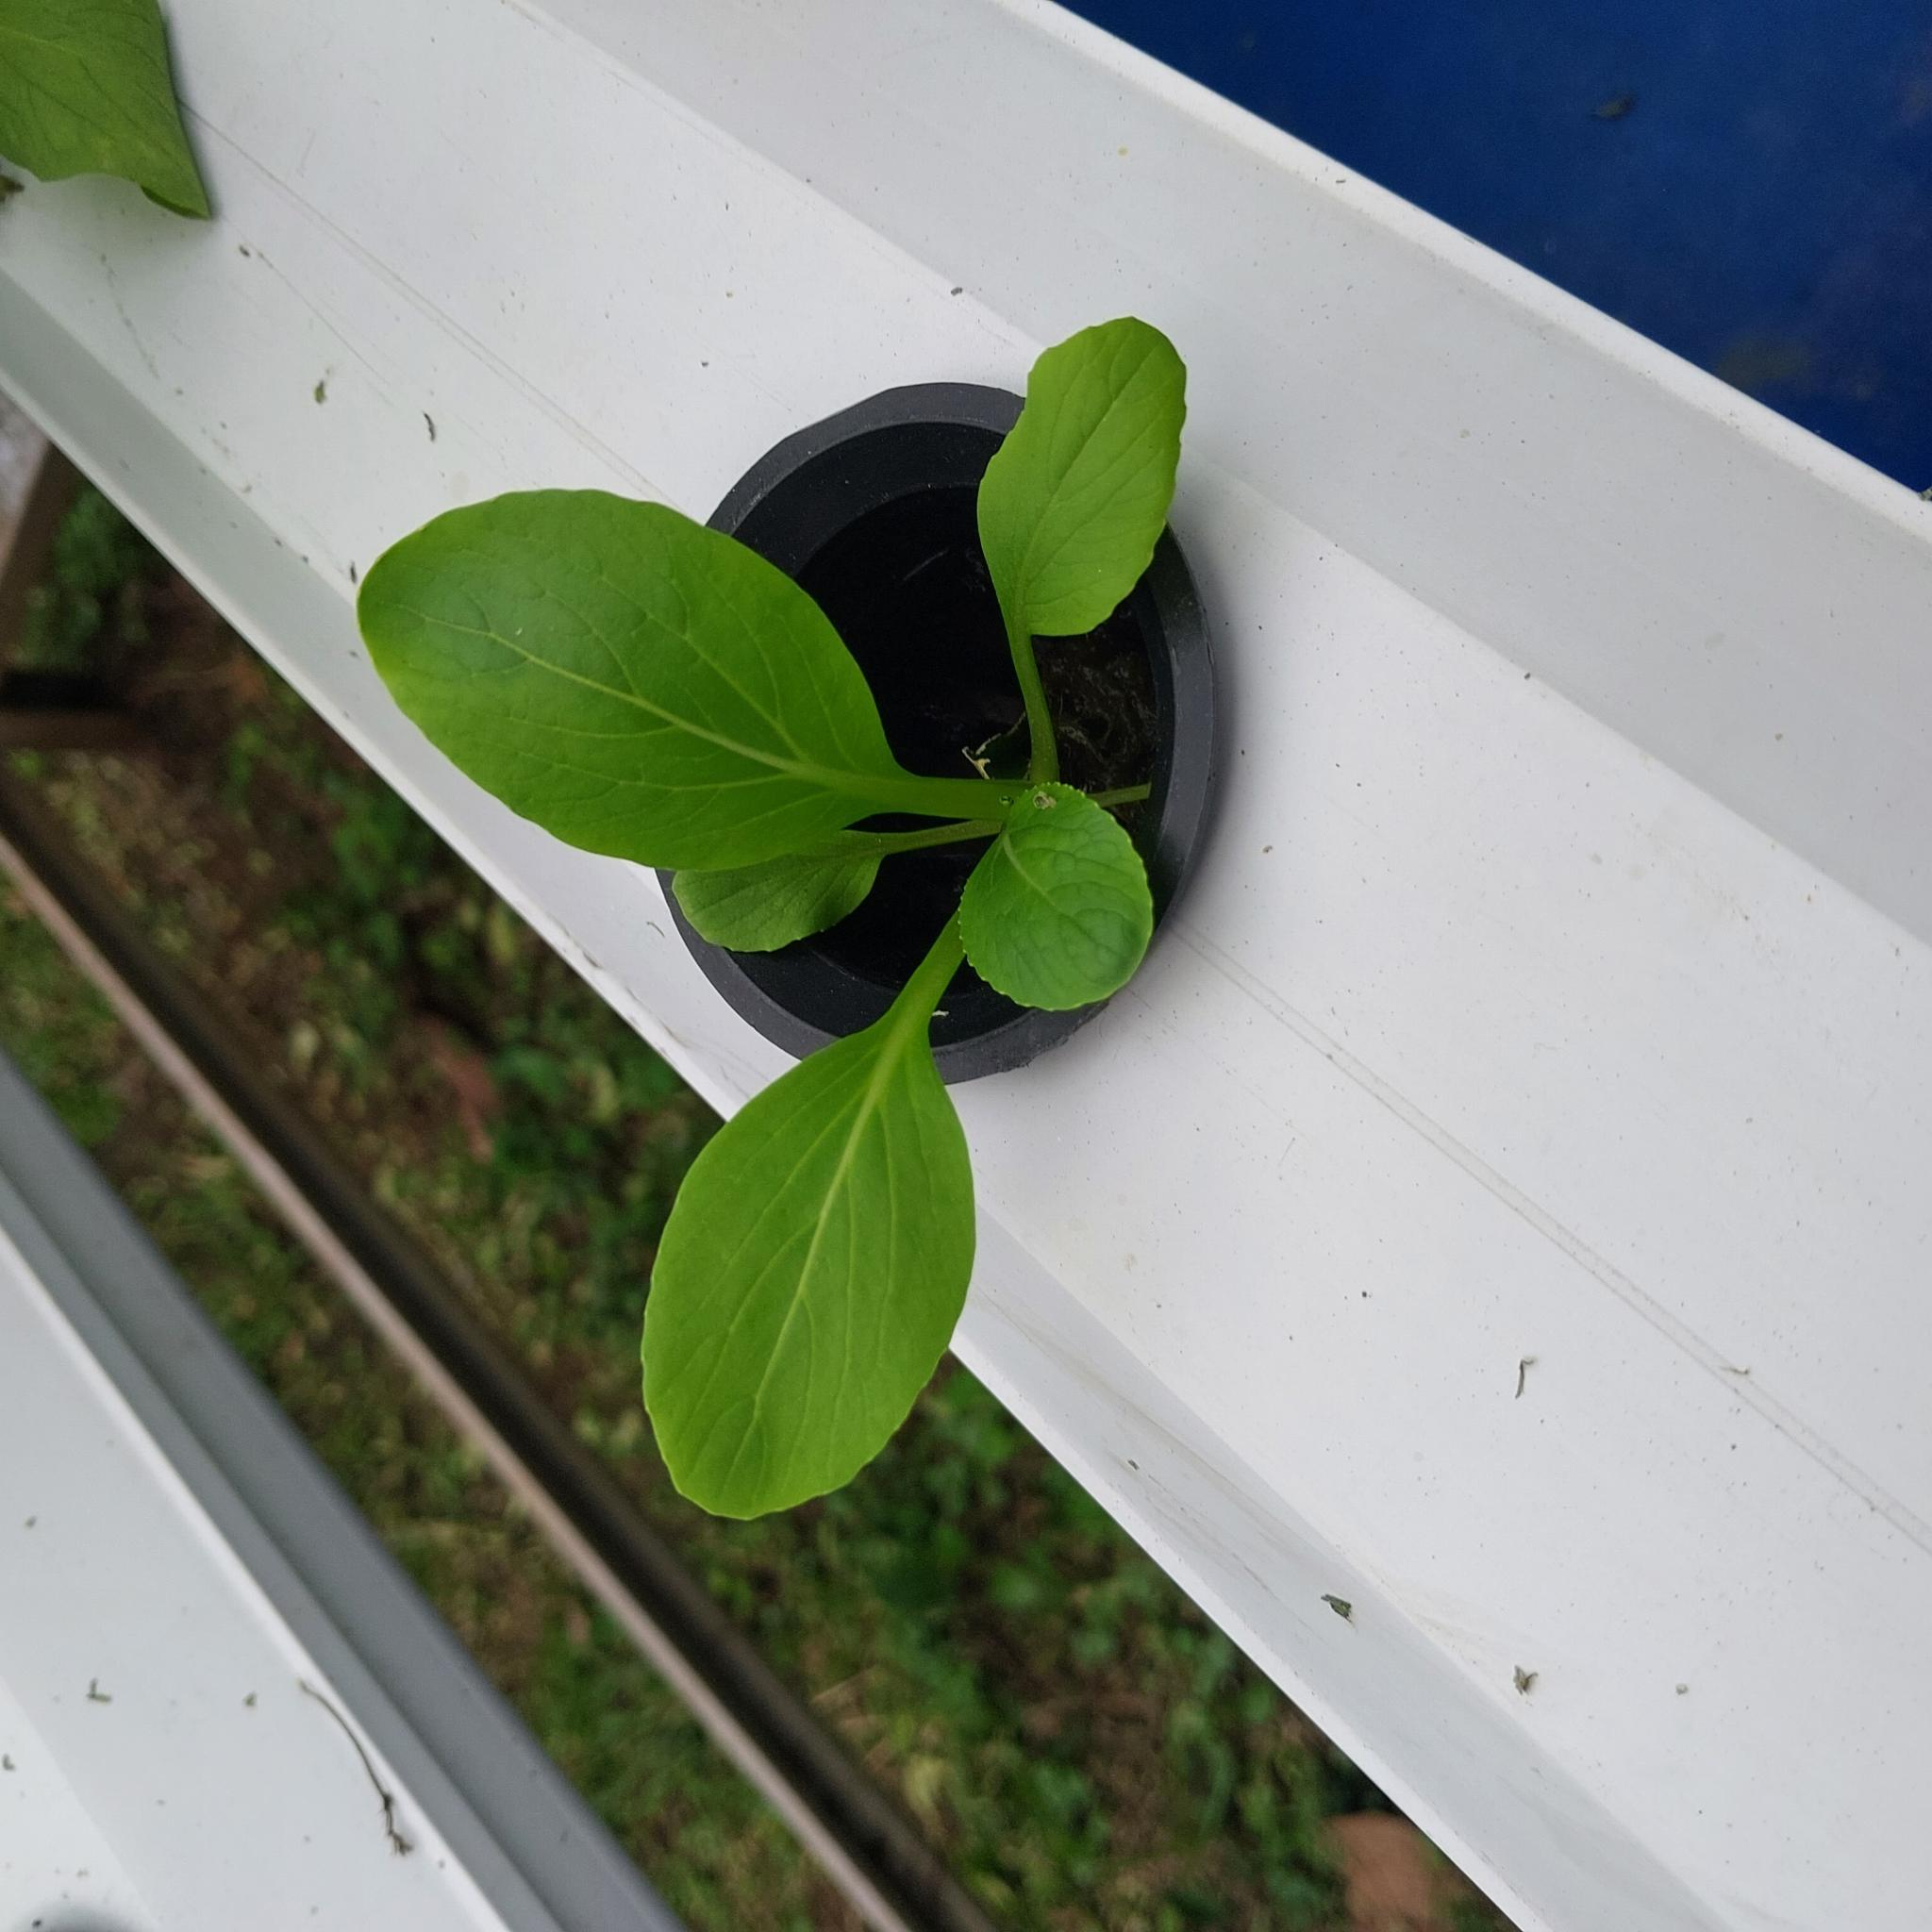Healthy-Pechay: (341, 492, 890, 879), (899, 310, 1261, 671)
